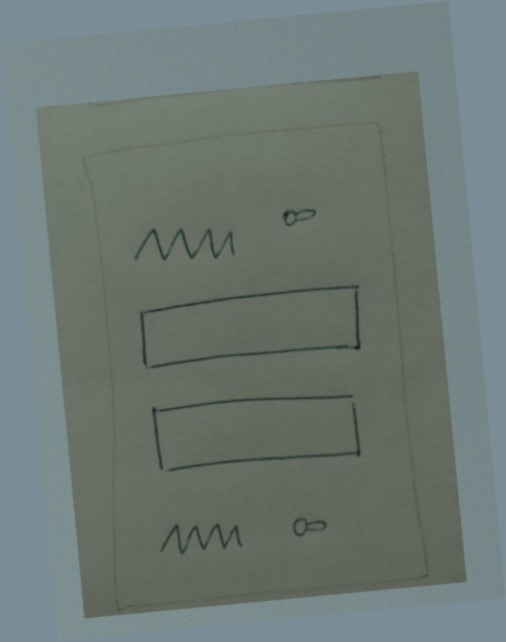switch: (278, 504, 341, 547), (271, 198, 331, 234)
text: (121, 211, 250, 279), (151, 509, 256, 564)
text_input: (137, 376, 380, 492), (126, 277, 378, 381)
